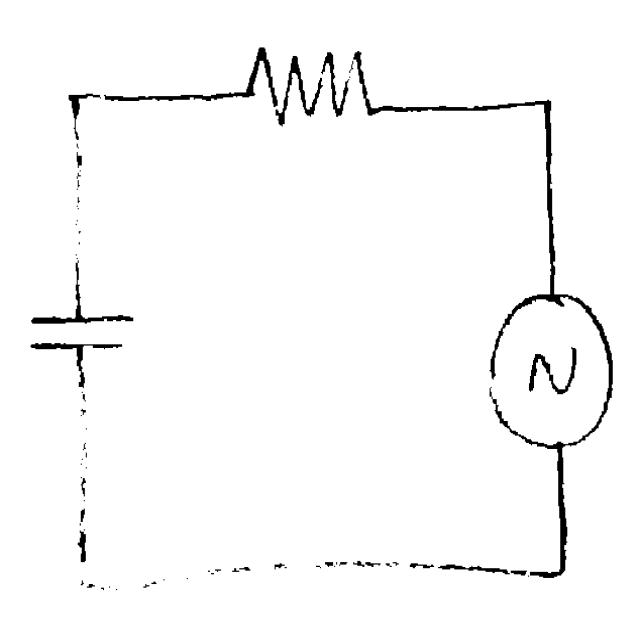ac: (461, 278, 625, 458)
capacitor: (26, 299, 142, 366)
resistor: (232, 29, 386, 136)
